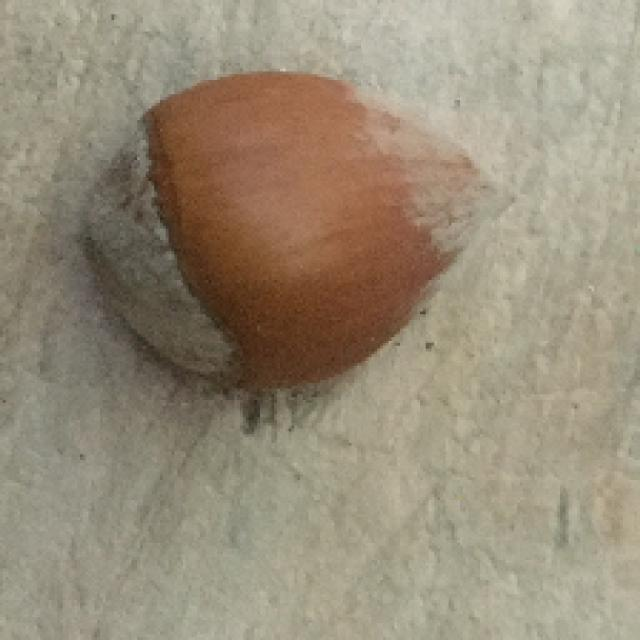QualityHazelnut: (78, 71, 524, 387)
